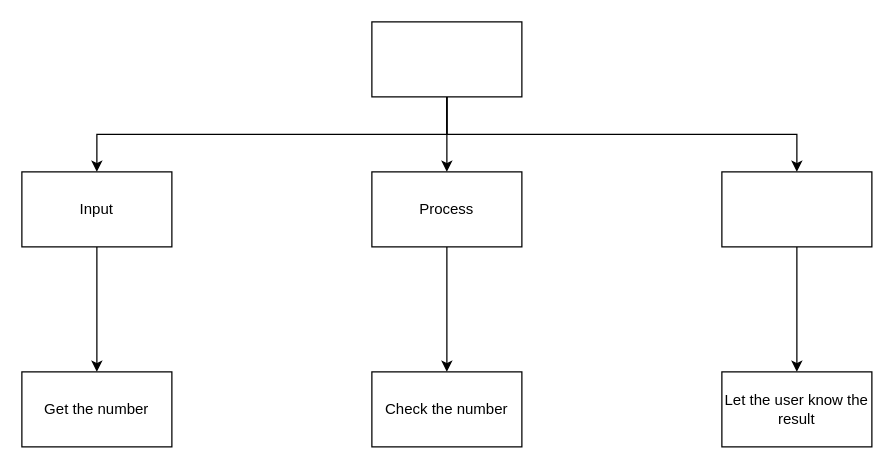
Some shapes in this 894 by 469 pixel diagram are drawn without their labels. The shapes that lost their labels are listed below. From the top down, each one's centre as x and y in pixels, then its label:
At (446,59): "Test while loop".
At (796,209): "Output".
